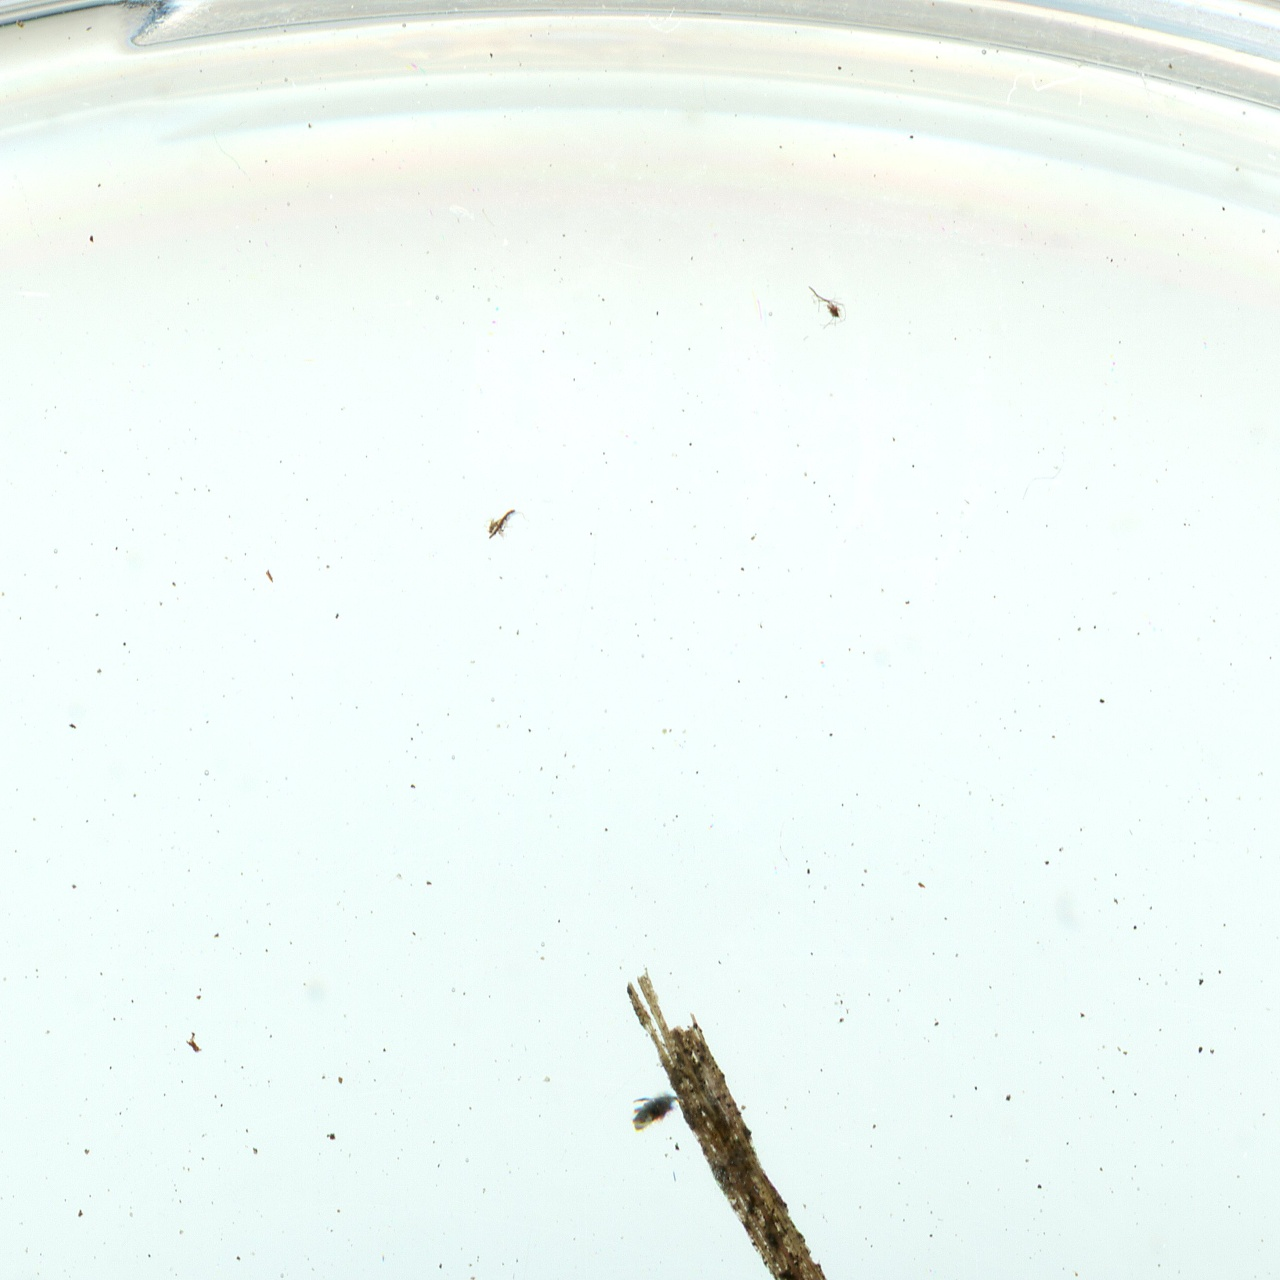arthropod: (627, 1085, 680, 1135)
